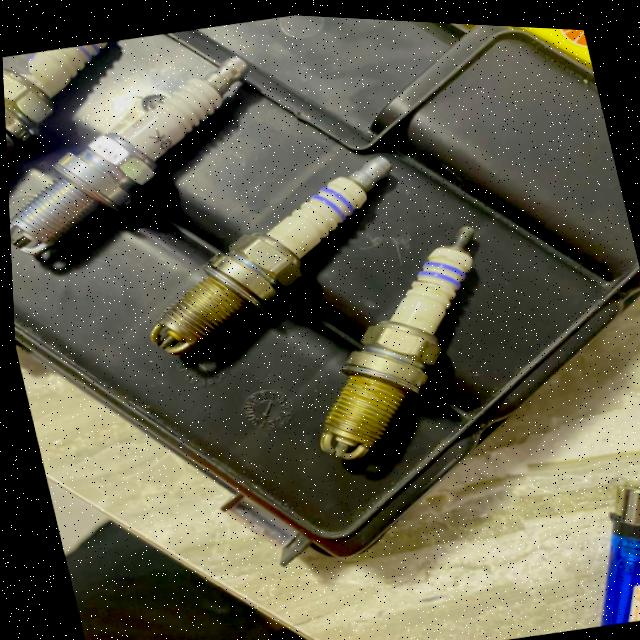spark-plug: (135, 146, 405, 368), (7, 42, 264, 265), (298, 211, 484, 464)
